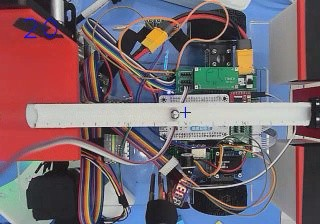ironball: (171, 109, 178, 117)
